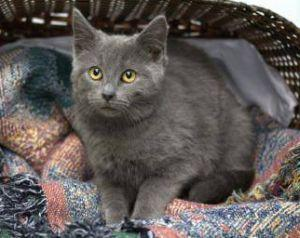rblue: (67, 4, 174, 126)
